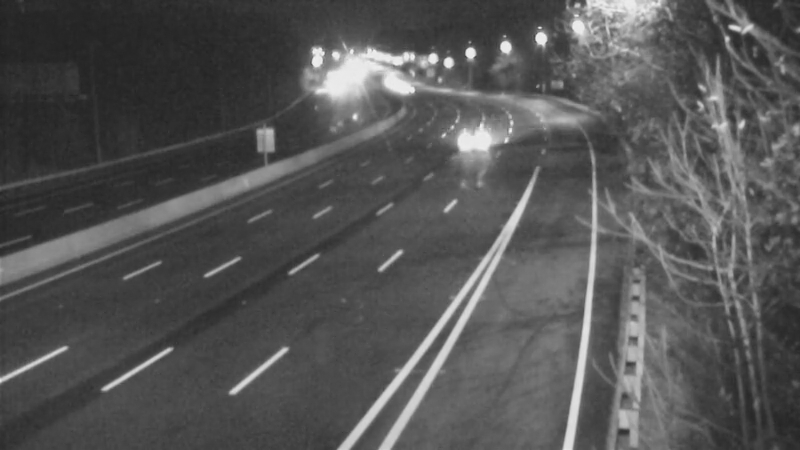vehicle: (451, 116, 501, 166)
